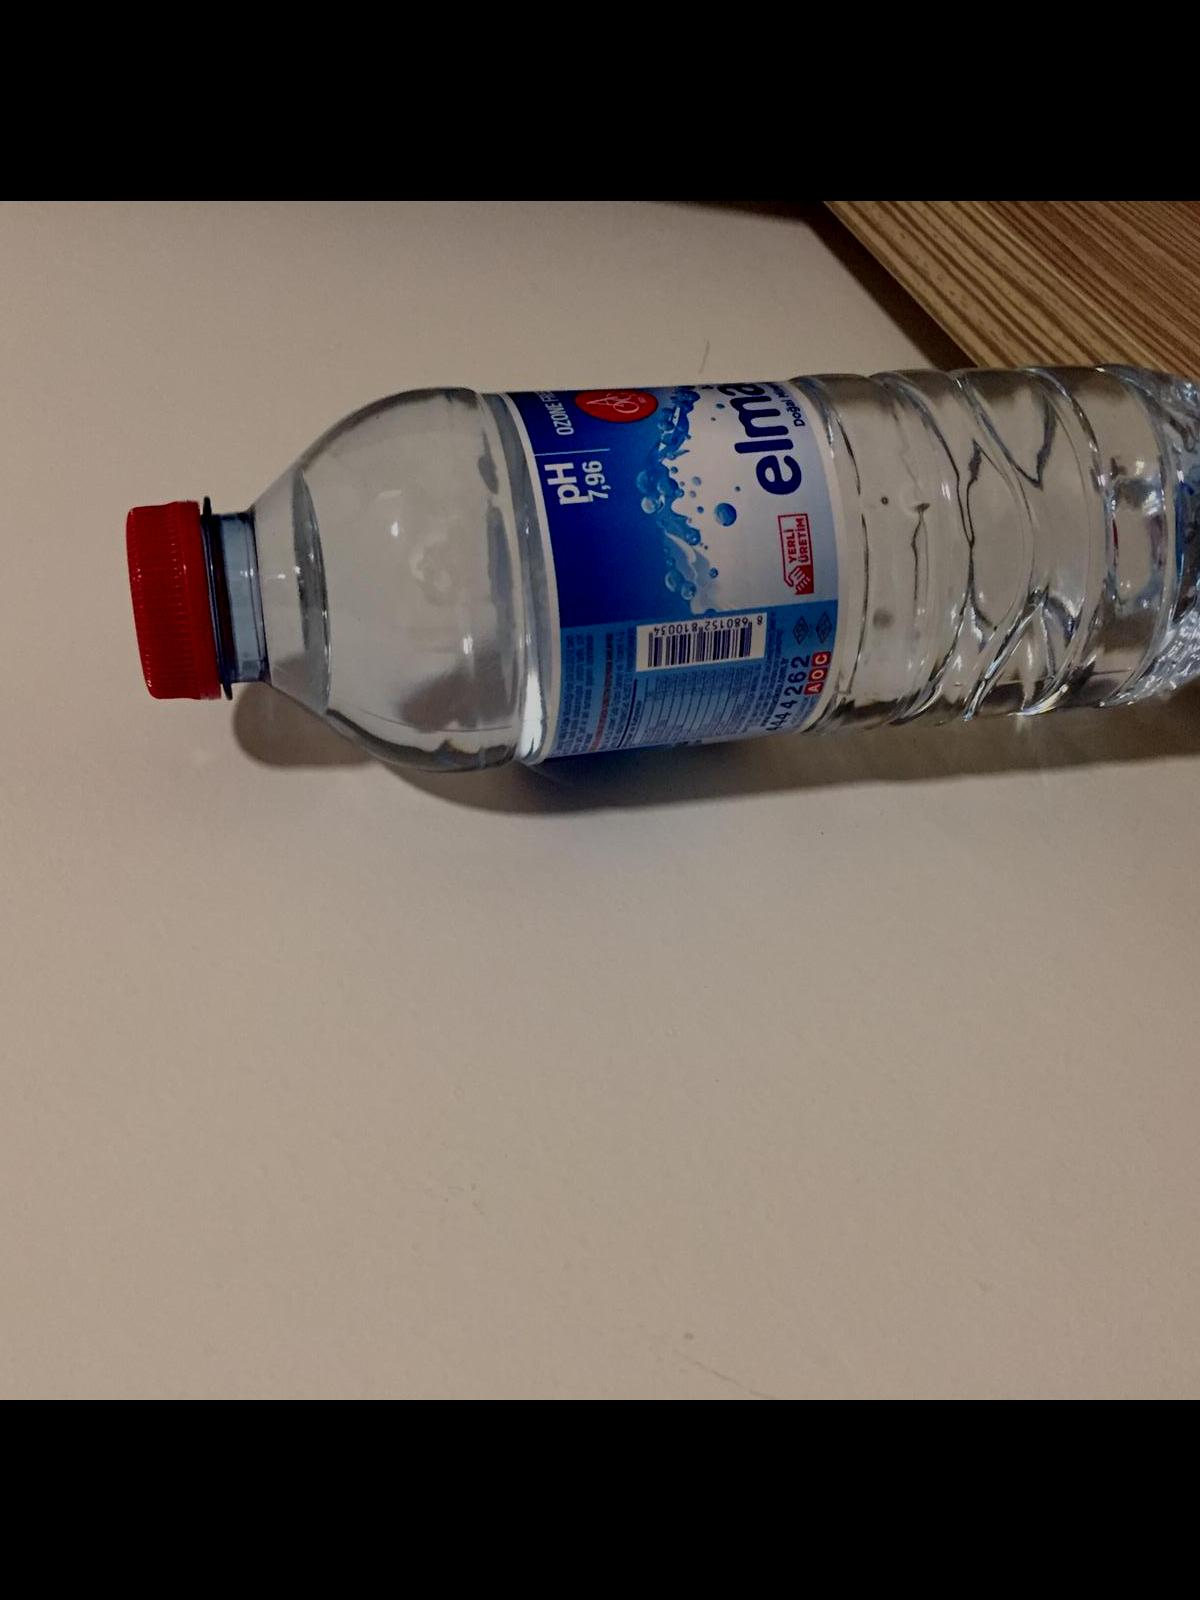bottle: (120, 350, 1200, 769)
